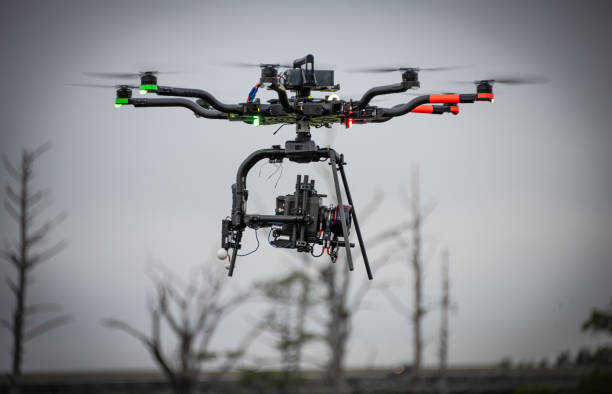Drone: (73, 49, 552, 292)
